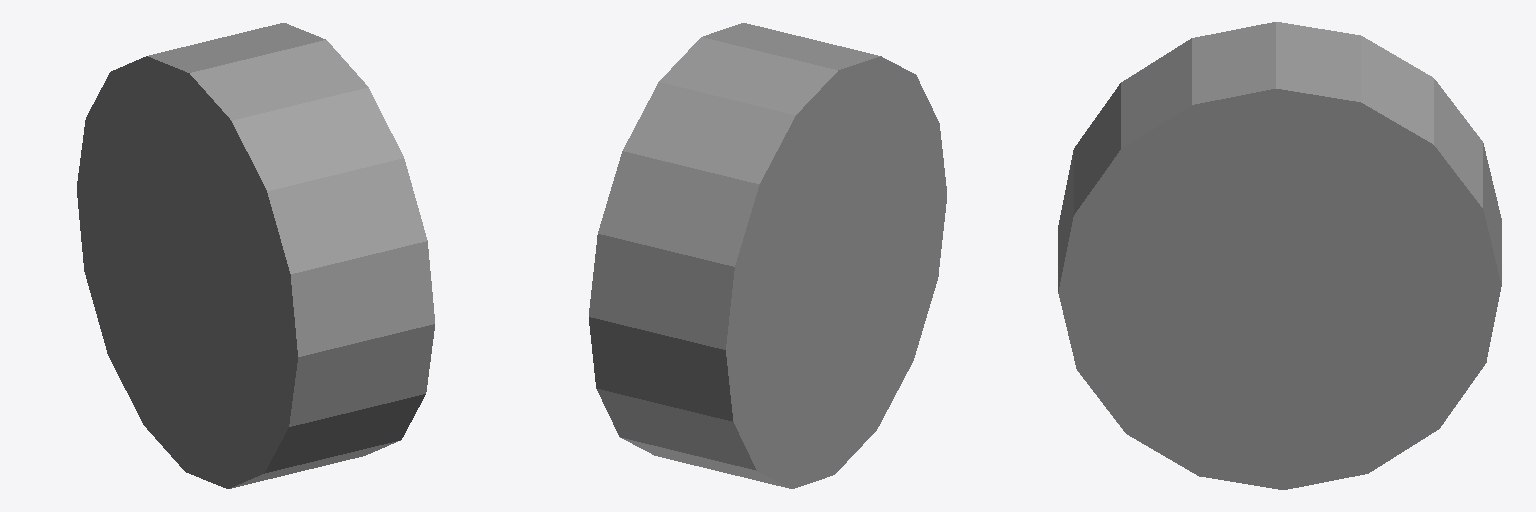
File: Carro_Llanta02.obj
3 views of the same model, side by side, from view 1: azimuth 30°, elevation 25°; view 2: azimuth 150°, elevation 25°; view 3: azimuth 270°, elevation 25° (orthographic).
Visible parts, largest first — view 1: Llanta_02; view 2: Llanta_02; view 3: Llanta_02.
Part boxes in pixels (bbox=[...]): Llanta_02: bbox=[77, 23, 434, 488]; Llanta_02: bbox=[589, 23, 946, 488]; Llanta_02: bbox=[1058, 22, 1501, 489].
Bounding box in the file's own units: 9.95 × 27.84 × 27.84.